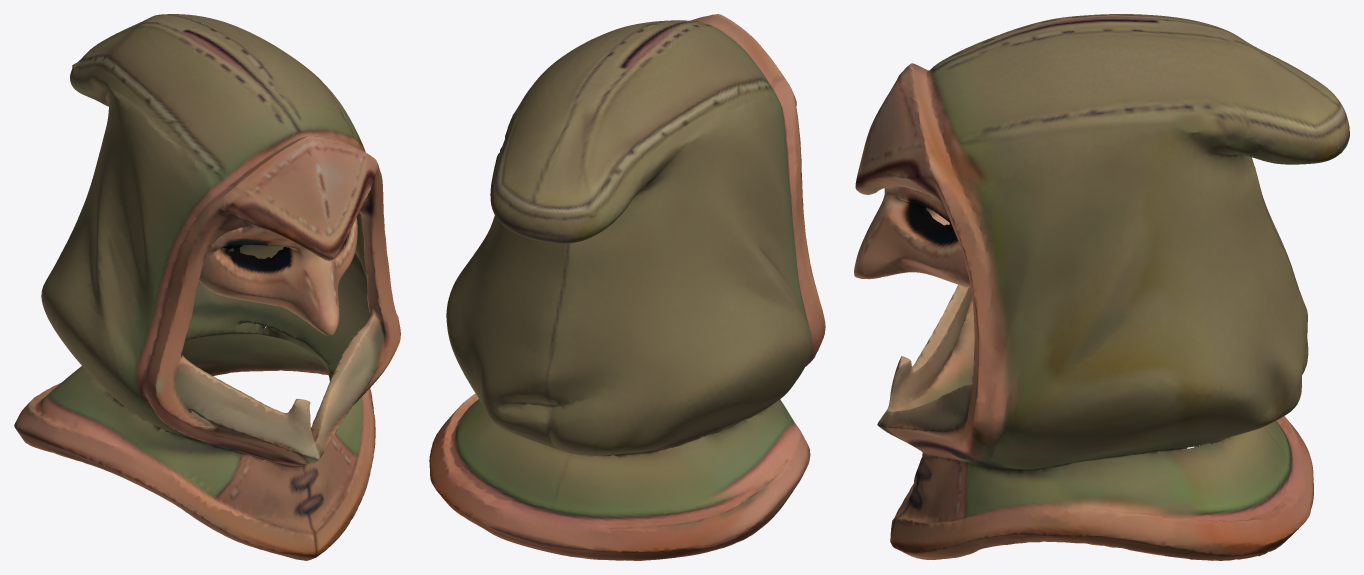
File: elmo-arqueiro.glb
3 renders of one model, left to right at view 1: azimuth 30°, elevation 25°; view 2: azimuth 150°, elevation 25°; view 3: azimuth 270°, elevation 25°, orthographic. The views are drawn at different scales.
Visible parts, largest first — view 1: tripo_node_f950e674-797e-4c8a-a71c-9a79cf78cb66.001; view 2: tripo_node_f950e674-797e-4c8a-a71c-9a79cf78cb66.001; view 3: tripo_node_f950e674-797e-4c8a-a71c-9a79cf78cb66.001.
Part boxes in pixels (left/top/right/bottom): tripo_node_f950e674-797e-4c8a-a71c-9a79cf78cb66.001: left=14, top=14, right=400, bottom=560; tripo_node_f950e674-797e-4c8a-a71c-9a79cf78cb66.001: left=429, top=14, right=825, bottom=560; tripo_node_f950e674-797e-4c8a-a71c-9a79cf78cb66.001: left=854, top=14, right=1349, bottom=560.
Bounding box in the file's own units: 0.138 × 0.191 × 0.1627.
Materials: 1 (1 with a texture image).
